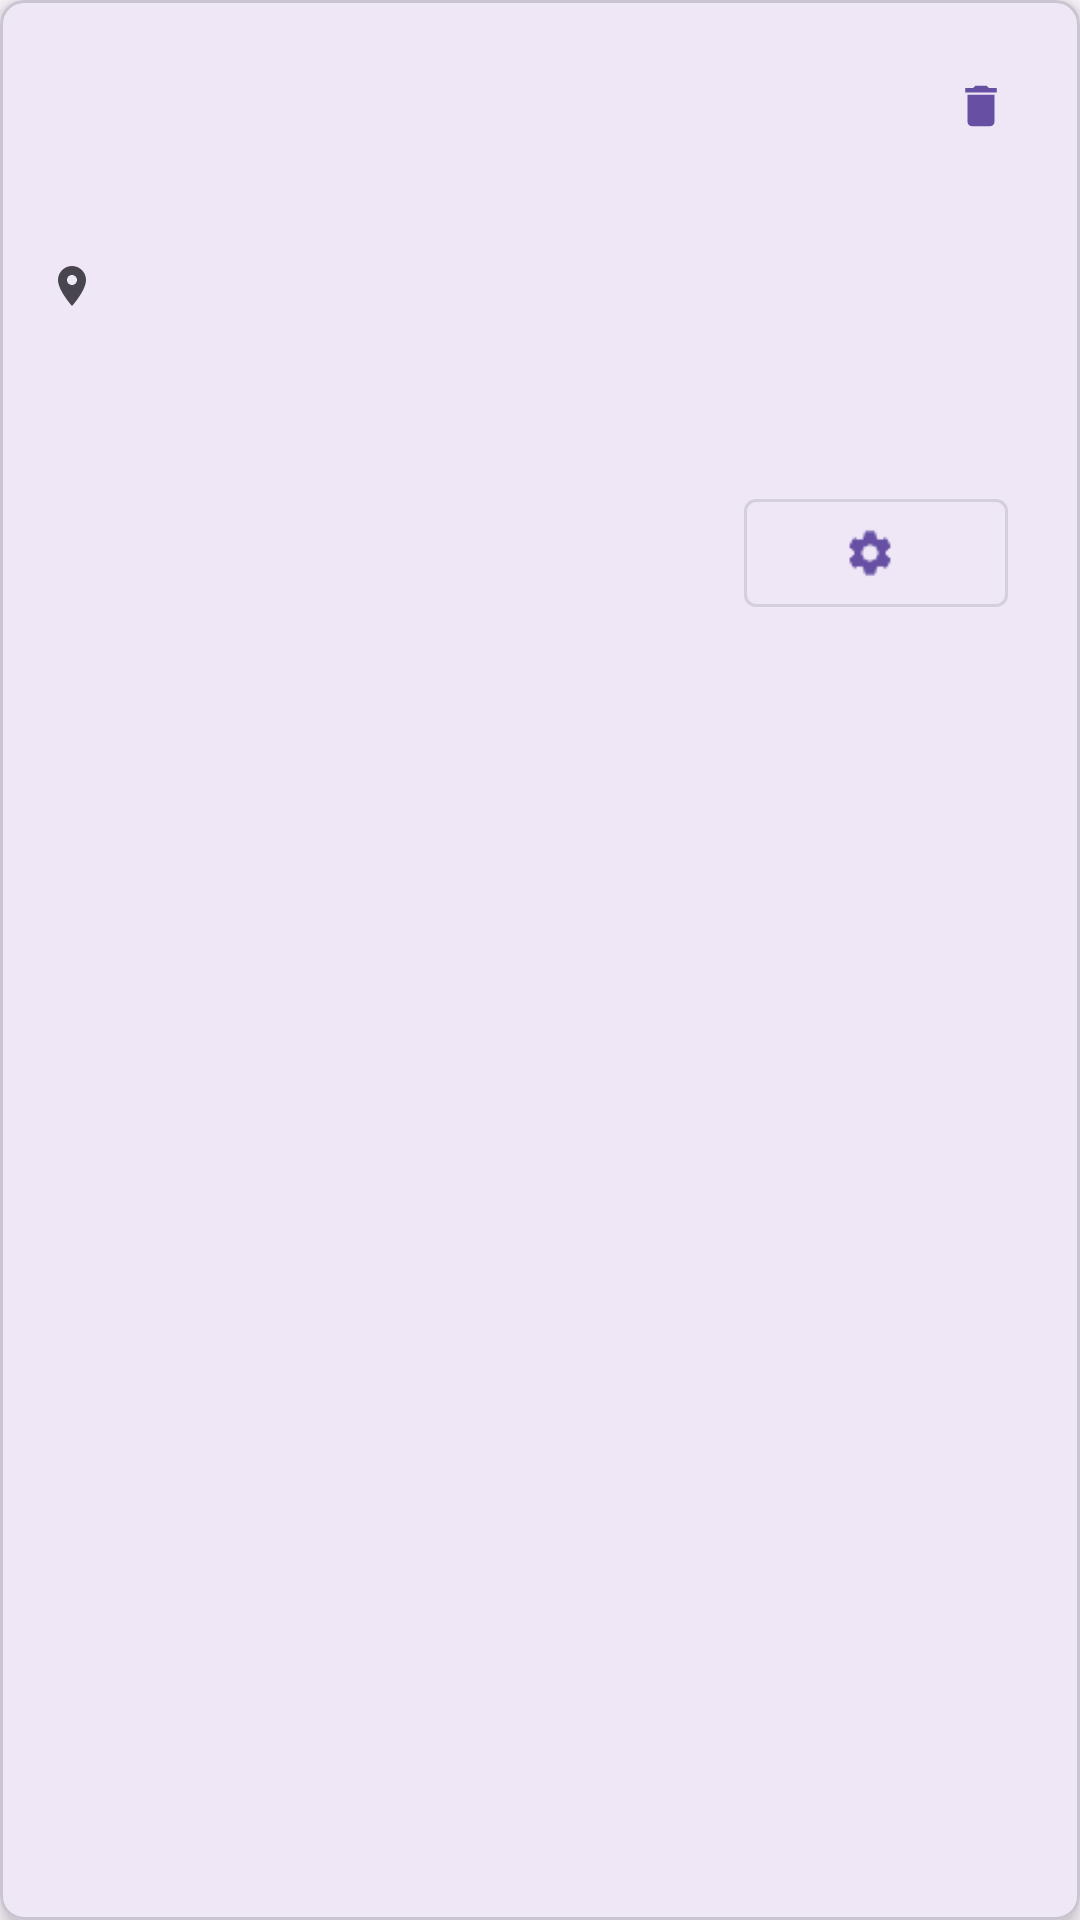

Screen size 1080*1920. Icon name, then its box in pixels as (x1, y1, x2, y2):
location: (58, 266, 86, 306)
